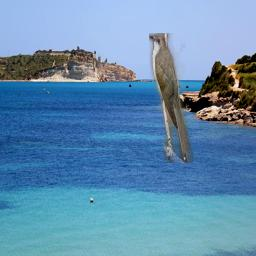Cuckoo: (149, 33, 193, 163)
